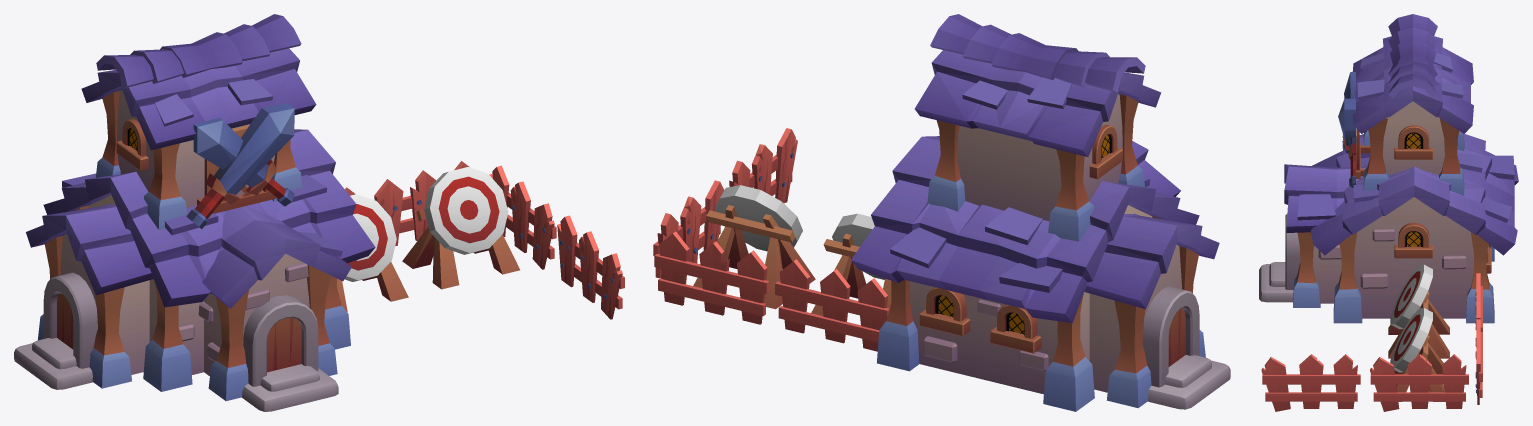
The model's file is weapons_shop.glb.
3 renders of one model, left to right at view 1: azimuth 30°, elevation 25°; view 2: azimuth 150°, elevation 25°; view 3: azimuth 270°, elevation 25°, orthographic. The views are drawn at different scales.
Parts seen in each view (by area): view 1: weapons_shop; view 2: weapons_shop; view 3: weapons_shop.
Boxes of the visible parts, <box> form: weapons_shop: <box>14,14,624,411</box>; weapons_shop: <box>653,14,1230,411</box>; weapons_shop: <box>1259,14,1518,411</box>.
Size of the model in its own units: 4.86 by 2.8 by 2.77.
Materials: 1 (1 with a texture image).
